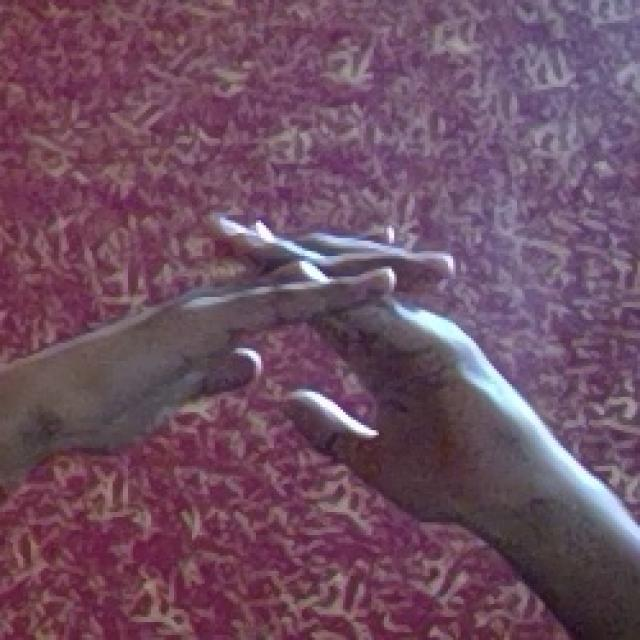Alphabet-W: (34, 192, 568, 542)
